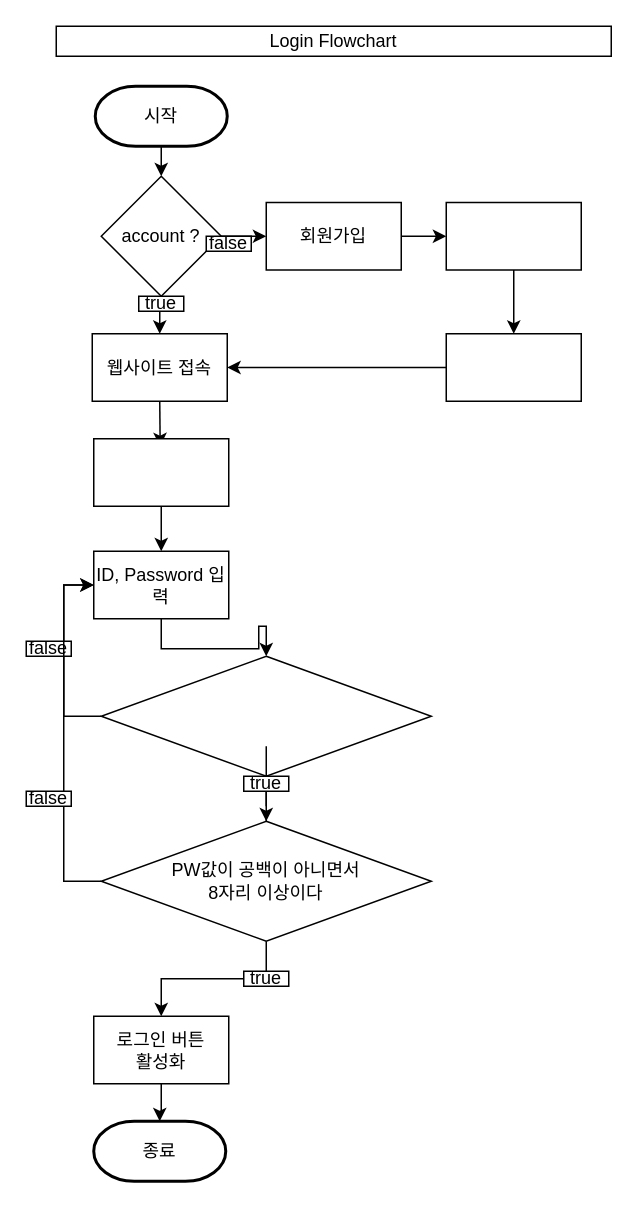
The diagram is 638 pixels wide and 1209 high, and some of its shapes have lost their labels. The box of each missing label's shape, as (x1, y1, x2, y2) in pixels:
Email값이 공백이 아니면서 @를 포함 하는가?: (100, 655, 431, 776)
submit: (445, 332, 581, 401)
로그인: (92, 437, 229, 506)
정보입력: (445, 201, 581, 270)
